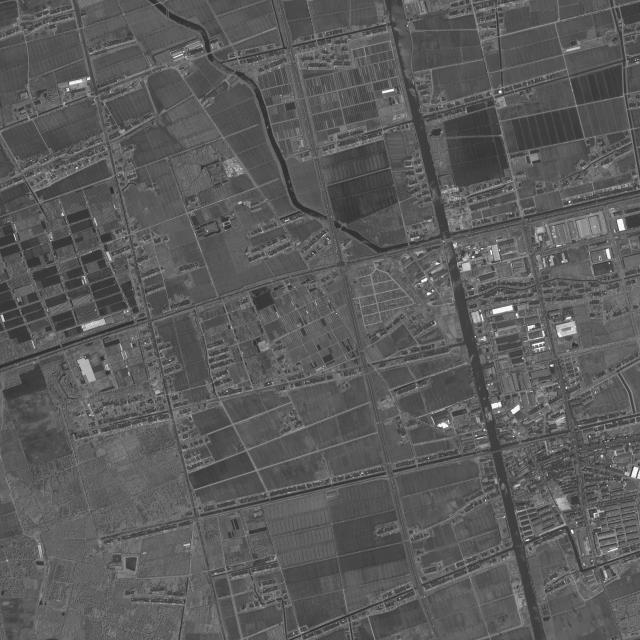ship: (406, 24, 410, 32), (439, 197, 443, 204), (412, 78, 415, 86), (405, 24, 408, 32), (418, 107, 421, 114)
